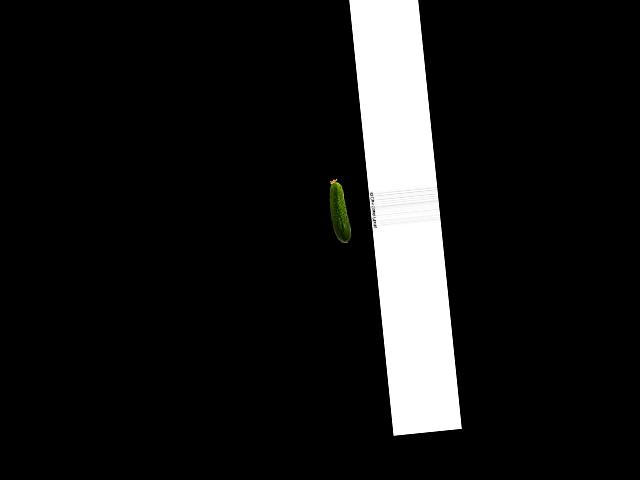cucumber: (327, 178, 352, 244)
